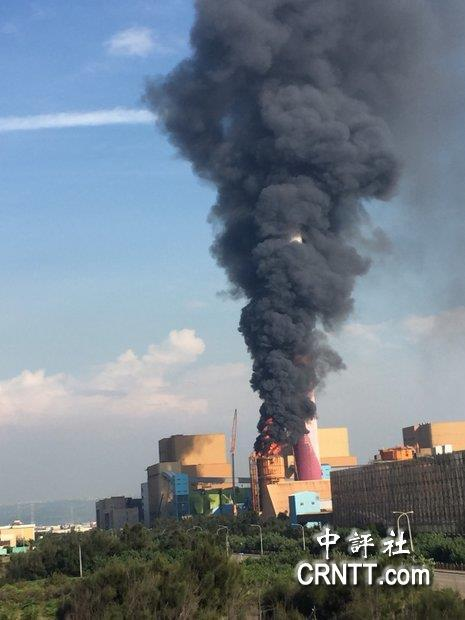smoke: (150, 1, 430, 428)
